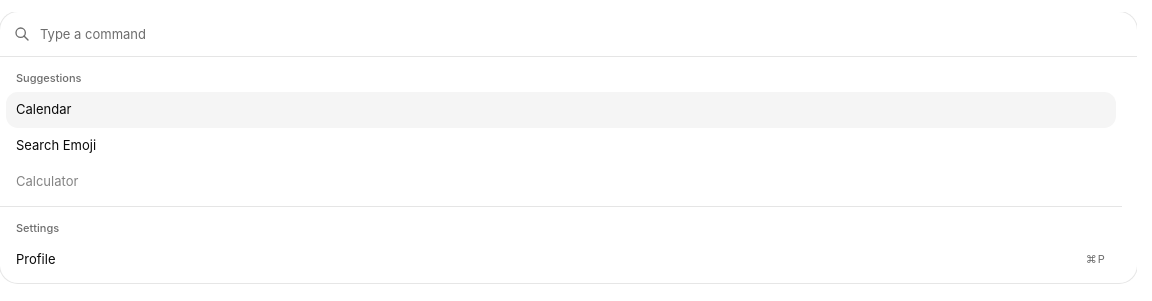
Test: Command › shows a clear button only while there is a query
In the dropdown: (568, 34) [40, 12, 1095, 56], type "cal"
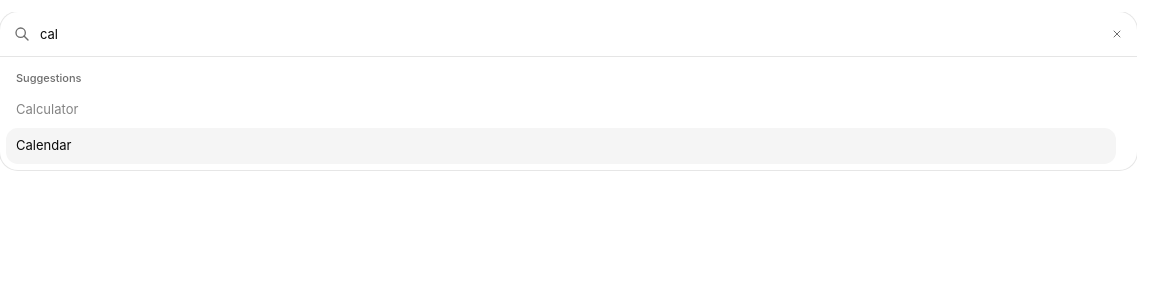
Click the button named "Clear search": click(1117, 34) [1105, 22, 1129, 46]
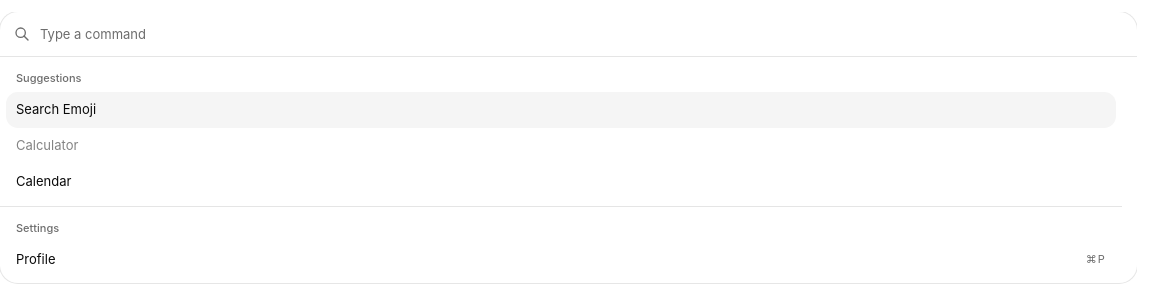
Now the dropdown is empty, box [40, 12, 1095, 56]
